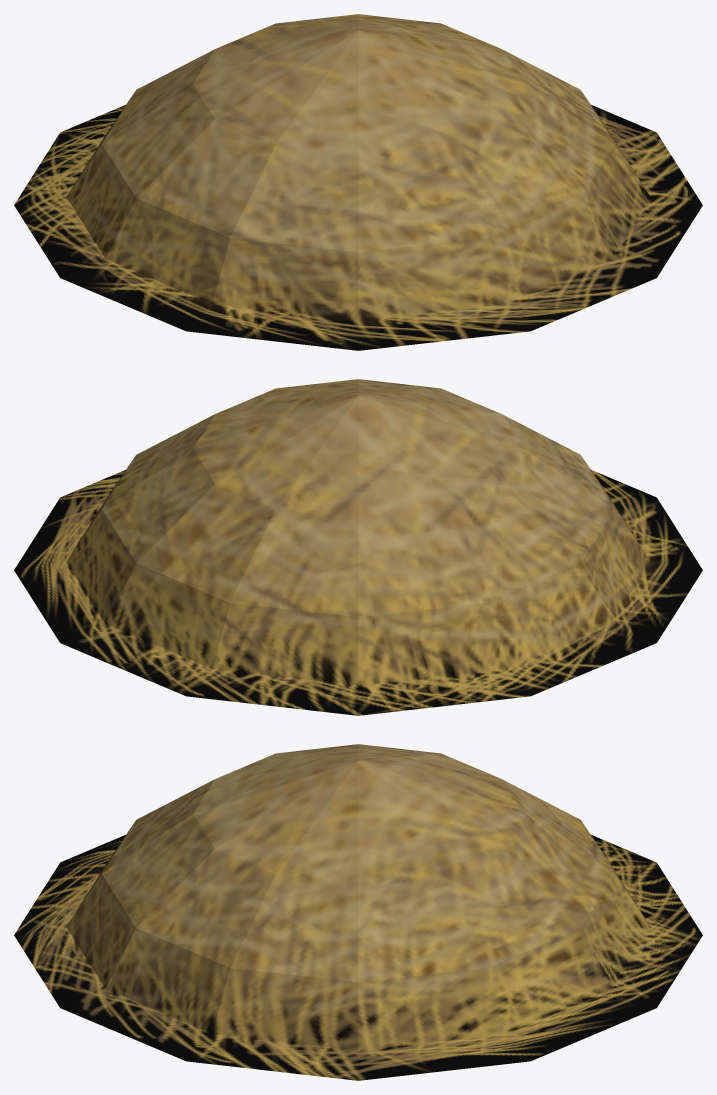
Rendered from Hay_a.FBX.
3 views of the same model, one above another, from view 1: azimuth 30°, elevation 25°; view 2: azimuth 150°, elevation 25°; view 3: azimuth 270°, elevation 25° (orthographic).
Visible parts, largest first — view 1: Hay_a; view 2: Hay_a; view 3: Hay_a.
Part boxes in pixels (bbox=[...]): Hay_a: bbox=[14, 14, 702, 350]; Hay_a: bbox=[14, 379, 702, 715]; Hay_a: bbox=[14, 744, 702, 1080].
Bounding box in the file's own units: 106 × 106 × 29.66.
